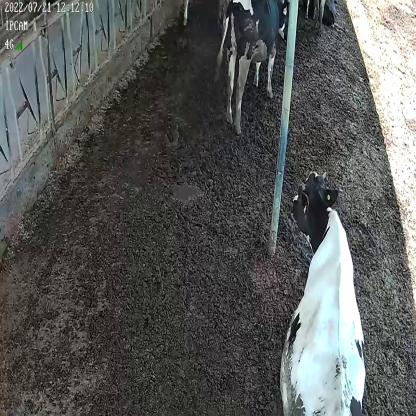cow: (279, 170, 367, 416), (218, 0, 287, 133)
